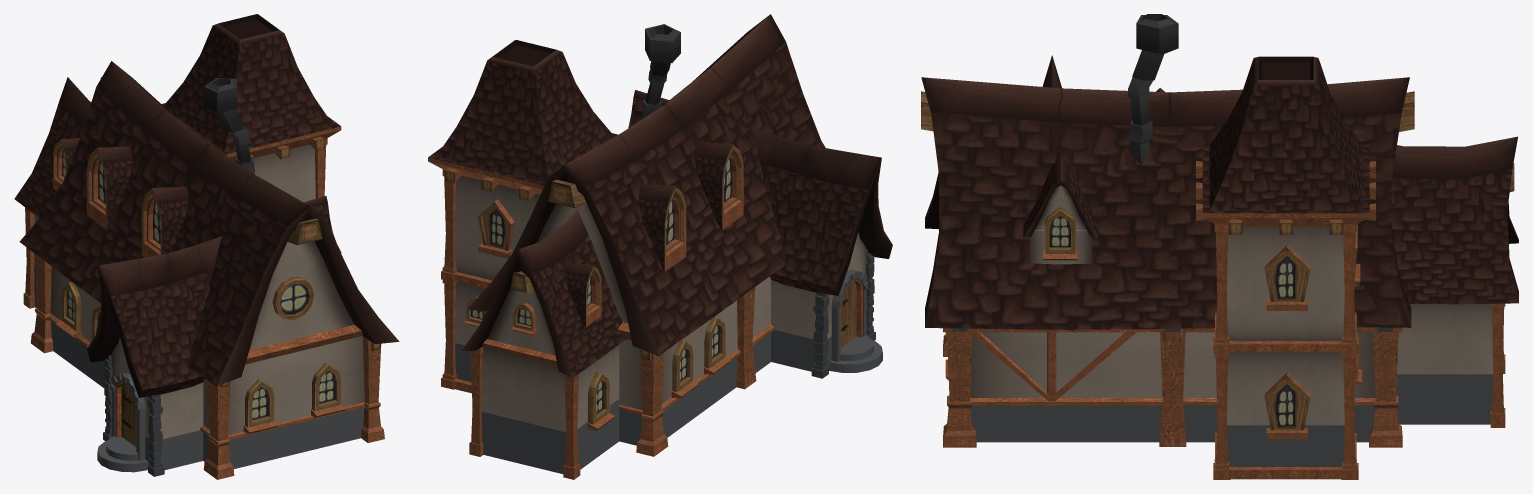
Rendered from fanasty_mod_village_building09.fbx.
The picture shows the model from 3 angles, left to right: view 1: azimuth 30°, elevation 25°; view 2: azimuth 150°, elevation 25°; view 3: azimuth 270°, elevation 25°; orthographic projection. The views are drawn at different scales.
Parts seen in each view (by area): view 1: village_building_09; view 2: village_building_09; view 3: village_building_09.
Part boxes in pixels (x1=…): village_building_09: x1=14, y1=14, x2=399, y2=479; village_building_09: x1=428, y1=14, x2=892, y2=479; village_building_09: x1=921, y1=14, x2=1518, y2=479.
Size of the model in its own units: 11.2 by 10.83 by 15.22.
